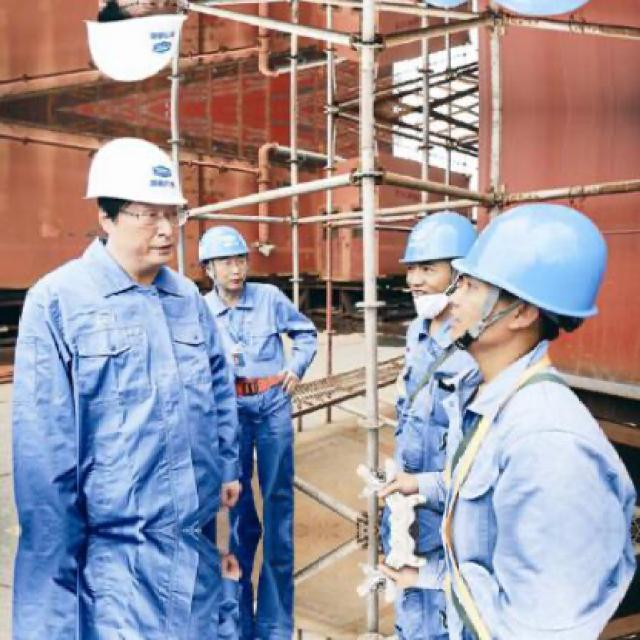helmet: (443, 188, 617, 364), (83, 140, 188, 270), (81, 0, 188, 80), (398, 208, 482, 306), (196, 221, 256, 296)
